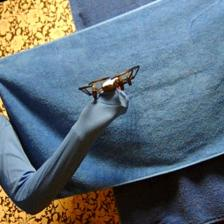drone: (78, 64, 140, 105)
